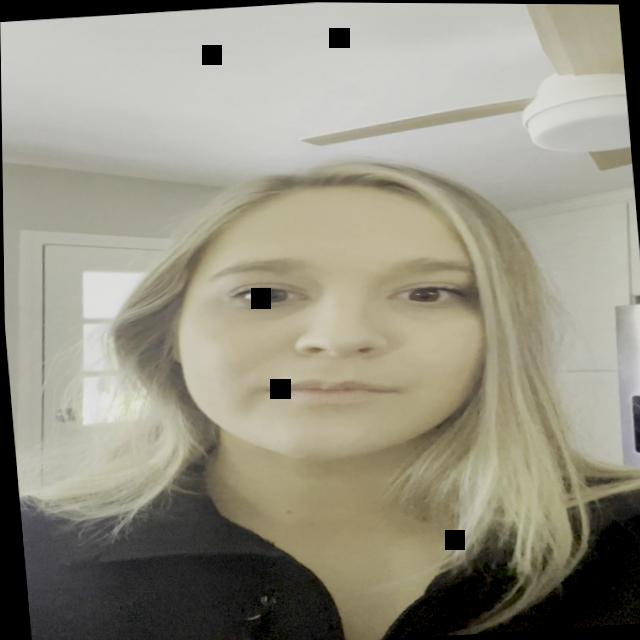NO-Mask: (136, 168, 537, 503)
